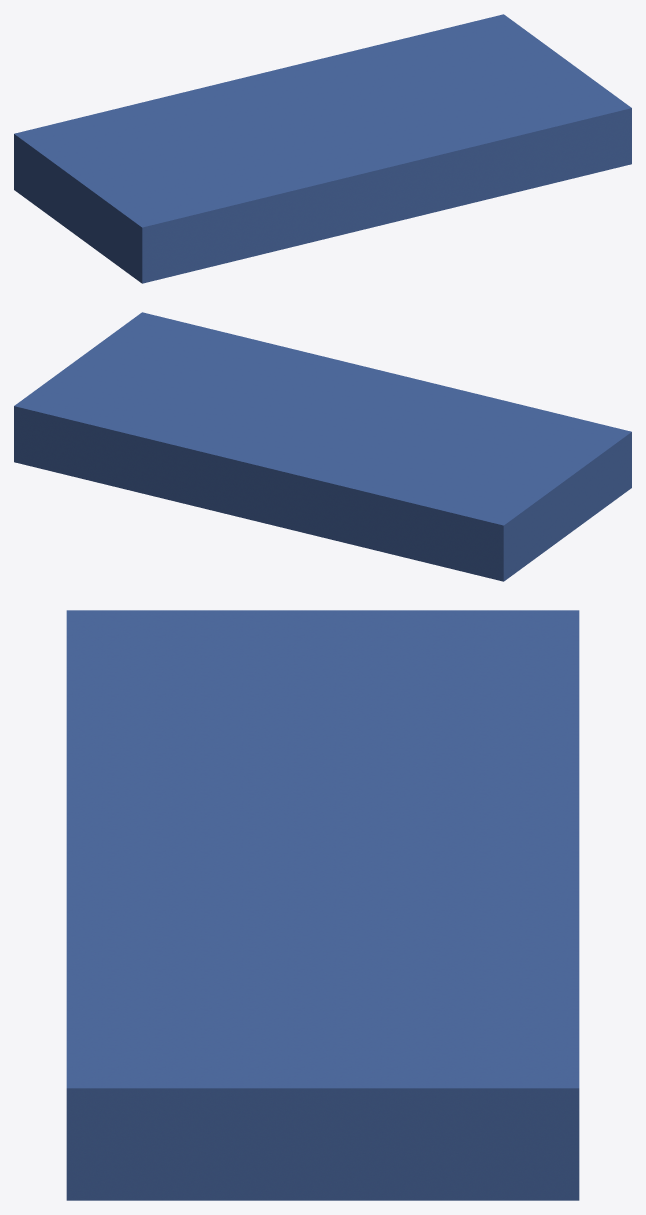
File: 1014_TYGYDCD.glb
3 renders of one model, top to bottom at view 1: azimuth 30°, elevation 25°; view 2: azimuth 150°, elevation 25°; view 3: azimuth 270°, elevation 25°, orthographic. The views are drawn at different scales.
Visible parts, largest first — view 1: 1014; view 2: 1014; view 3: 1014.
Part boxes in pixels (bbox=[...]): 1014: bbox=[14, 14, 631, 283]; 1014: bbox=[14, 312, 631, 581]; 1014: bbox=[66, 610, 579, 1200].
Bounding box in the file's own units: 292 × 32 × 132.
Materials: 1 (1 with a texture image).
